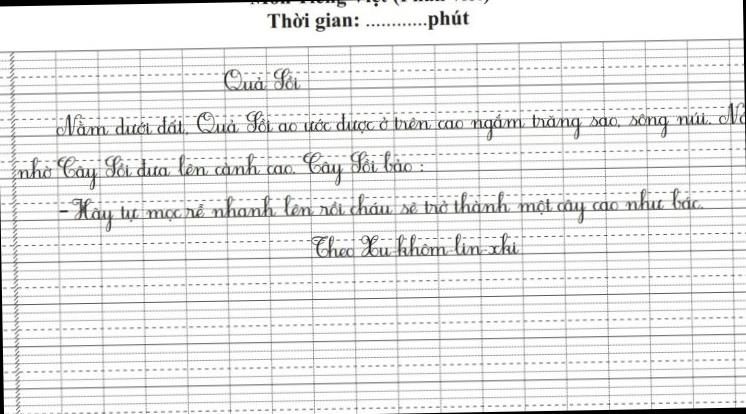text: (51, 100, 745, 150), (56, 185, 706, 235), (14, 148, 426, 193), (308, 231, 520, 262), (264, 9, 360, 36), (247, 0, 490, 10), (222, 67, 302, 94), (426, 8, 472, 32)
